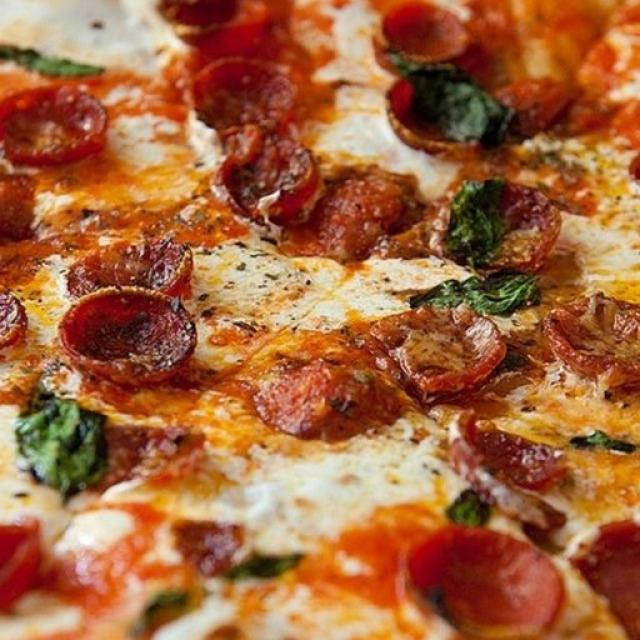Basil: (25, 391, 110, 498), (403, 64, 499, 141), (449, 175, 500, 258), (414, 276, 528, 310), (0, 44, 105, 75), (579, 434, 631, 456), (454, 493, 483, 524)
Pepperoni: (410, 535, 564, 637), (60, 290, 203, 372), (540, 299, 640, 414), (456, 421, 558, 527), (257, 368, 390, 434), (192, 56, 301, 133), (409, 312, 496, 398), (221, 131, 310, 213), (5, 89, 98, 162), (583, 532, 640, 640), (66, 249, 202, 291), (323, 183, 407, 246), (504, 85, 608, 133), (385, 6, 470, 62), (502, 187, 554, 264), (0, 170, 36, 235), (0, 287, 25, 347)
